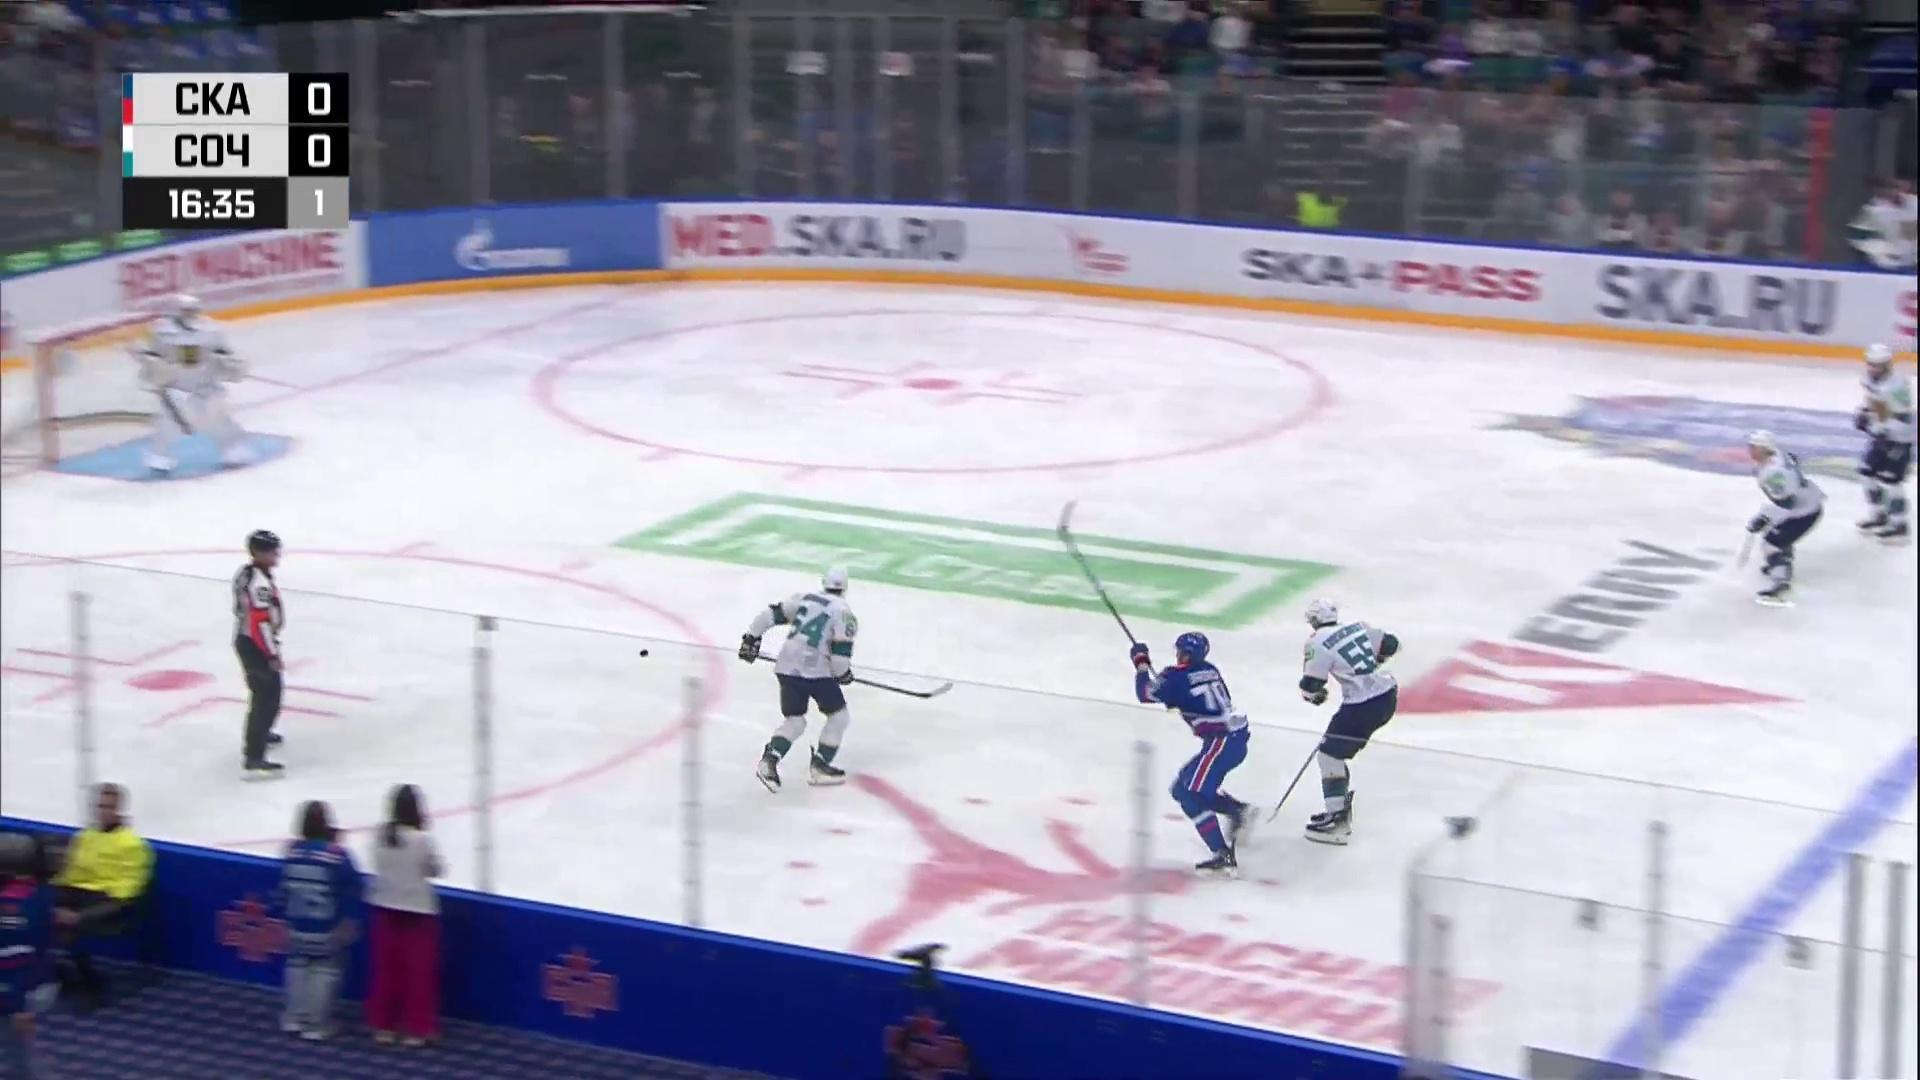ball: (640, 649, 649, 658)
